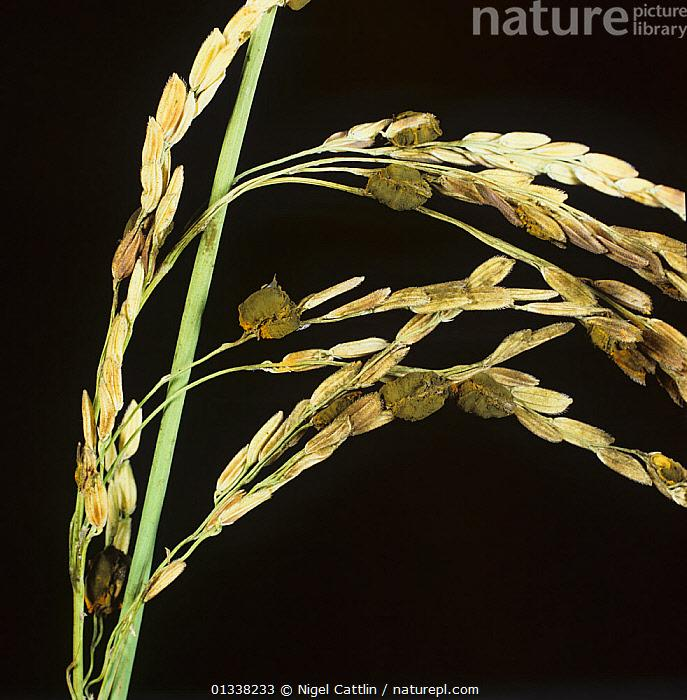False Smut: (452, 352, 548, 438), (226, 274, 332, 350), (366, 354, 460, 432), (356, 148, 436, 220), (74, 534, 144, 612), (368, 112, 452, 154)
